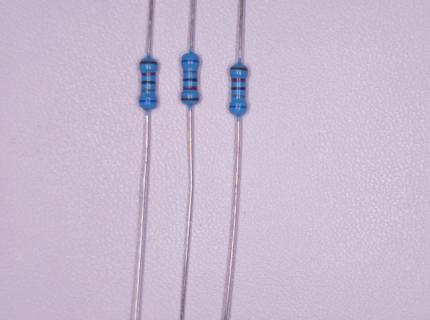Black band: (231, 87, 246, 91), (183, 78, 197, 82), (142, 81, 156, 84)
Blue band: (181, 59, 200, 63), (139, 99, 157, 103), (229, 105, 247, 109)
Brown band: (140, 60, 158, 65), (181, 97, 199, 101), (230, 67, 248, 71)
Grey band: (183, 70, 198, 74), (232, 95, 246, 98), (141, 89, 155, 92)
Red band: (141, 72, 156, 76), (232, 78, 246, 82), (183, 86, 197, 90)
